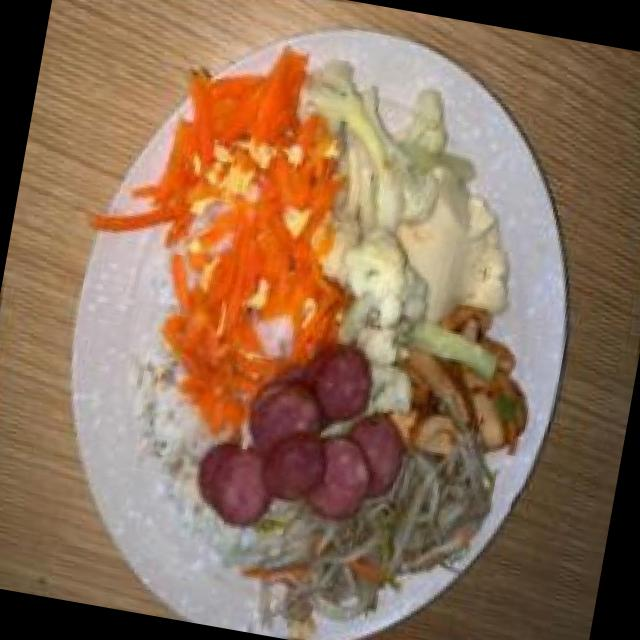carrot_eggs: (134, 60, 366, 385)
chinese_sausage: (186, 322, 418, 533)
mung_bean_sprouts: (293, 435, 507, 640)
rice: (106, 329, 298, 562)
